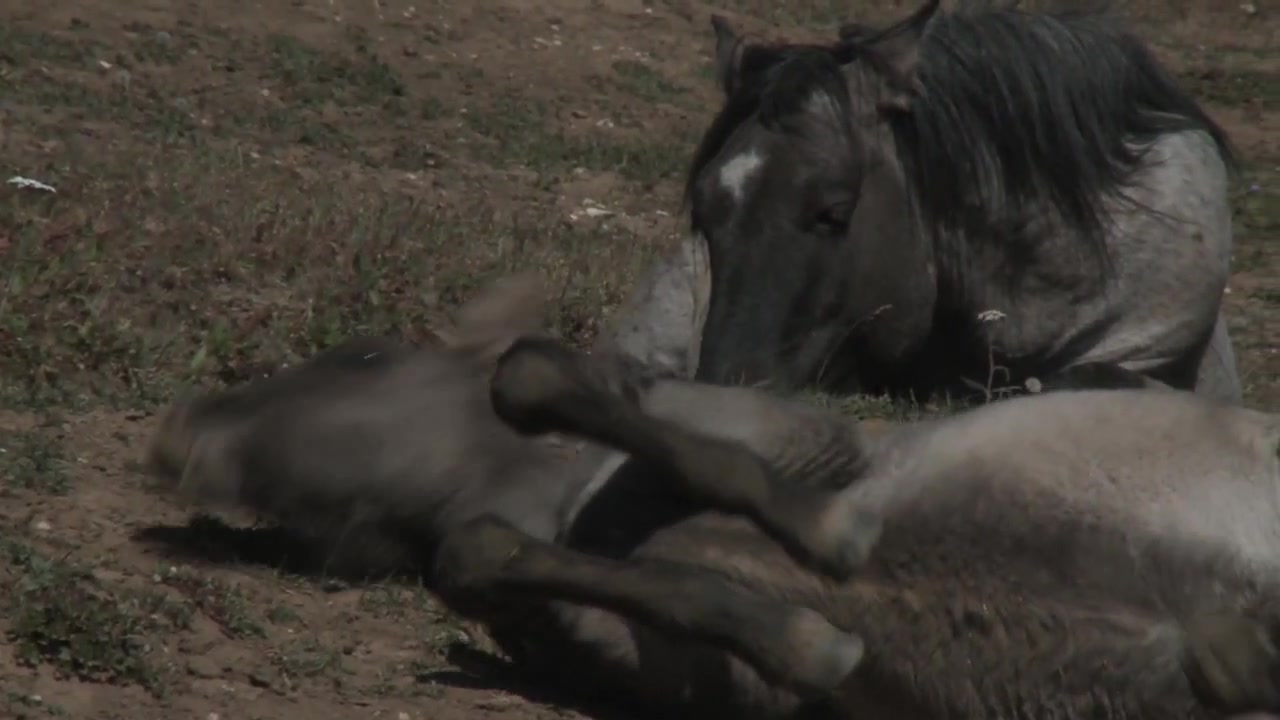horse: (140, 268, 1280, 720), (670, 1, 1248, 414)
